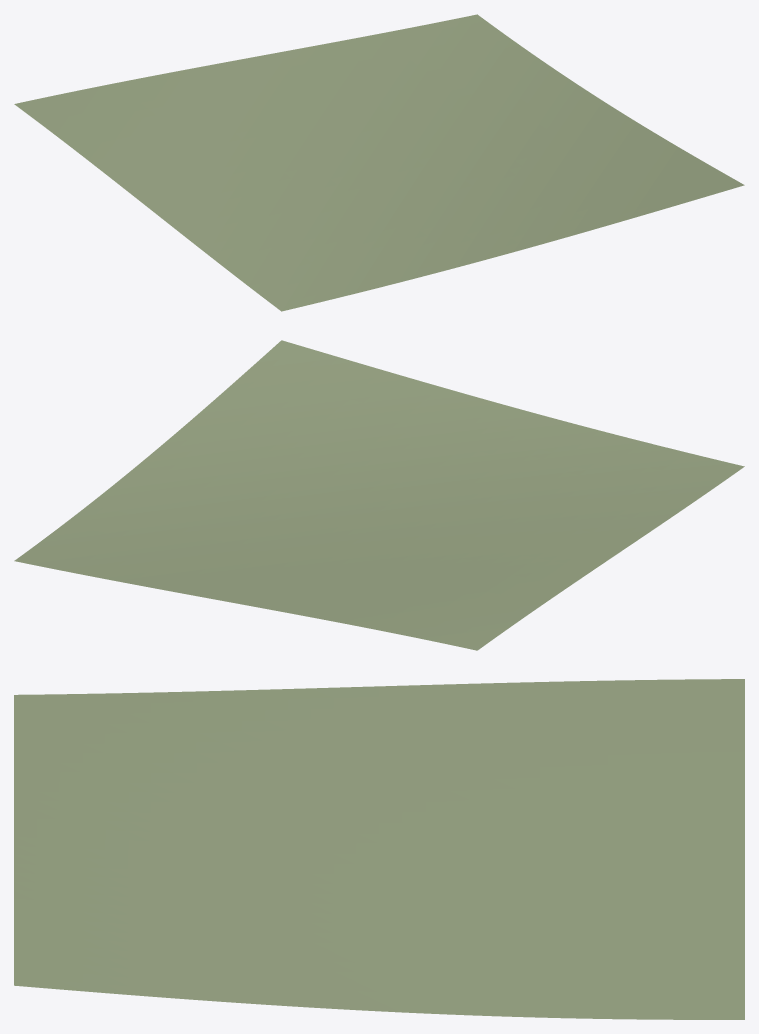
The model's file is alpine-5-13.glb.
3 renders of one model, top to bottom at view 1: azimuth 30°, elevation 25°; view 2: azimuth 150°, elevation 25°; view 3: azimuth 270°, elevation 25°, orthographic. The views are drawn at different scales.
Parts seen in each view (by area): view 1: alpine-5-13; view 2: alpine-5-13; view 3: alpine-5-13.
Boxes of the visible parts, left/top/right/bottom form: alpine-5-13: left=14, top=14, right=744, bottom=311; alpine-5-13: left=14, top=340, right=744, bottom=650; alpine-5-13: left=14, top=679, right=744, bottom=1019.
Size of the model in its own units: 256 by 13.23 by 256.
